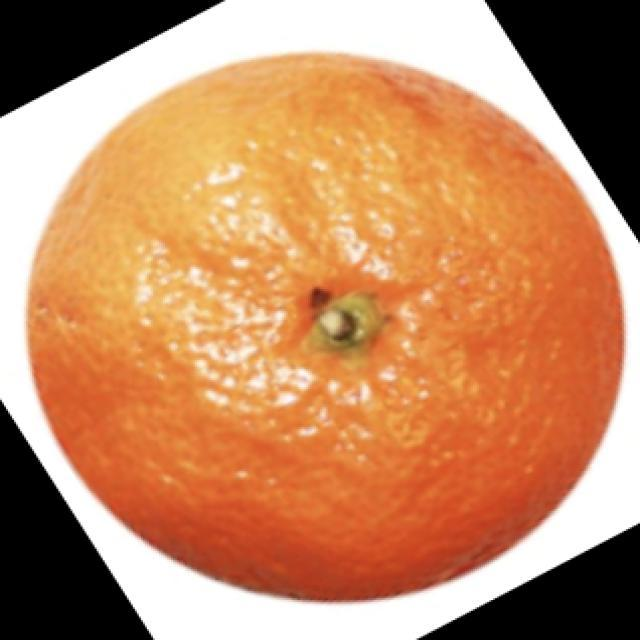matang: (29, 55, 622, 599)
